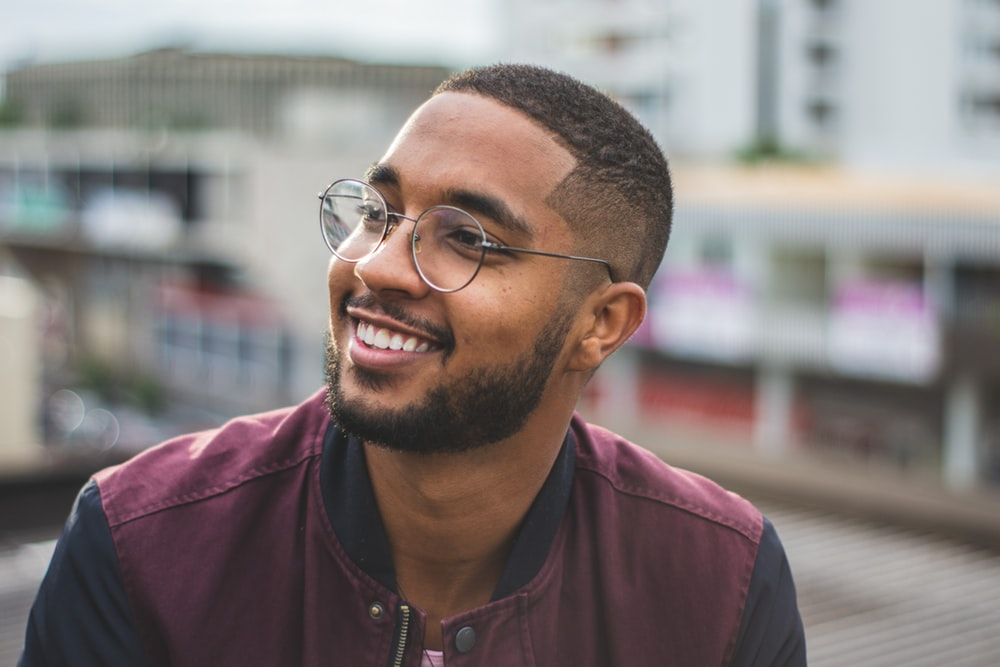bare: (328, 263, 528, 439)
